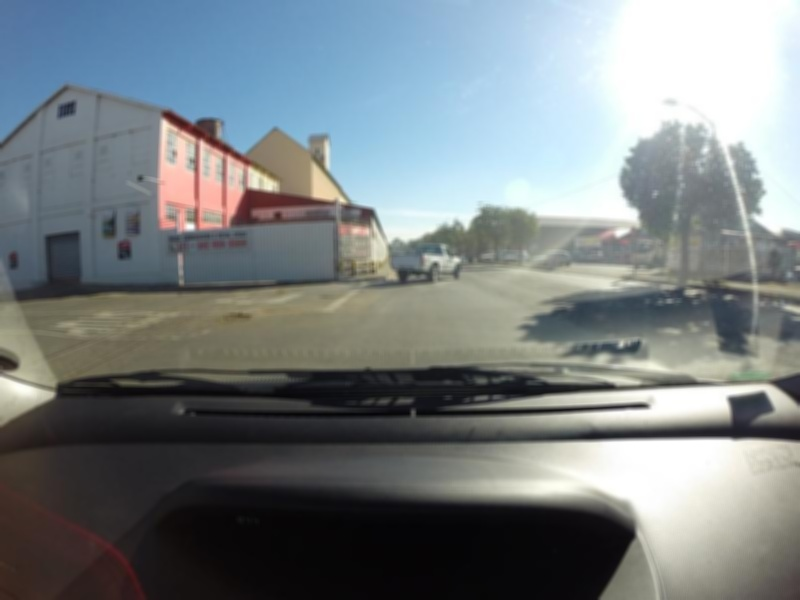pothole: (221, 310, 256, 320), (267, 306, 297, 312), (274, 285, 287, 294), (319, 294, 344, 298)
